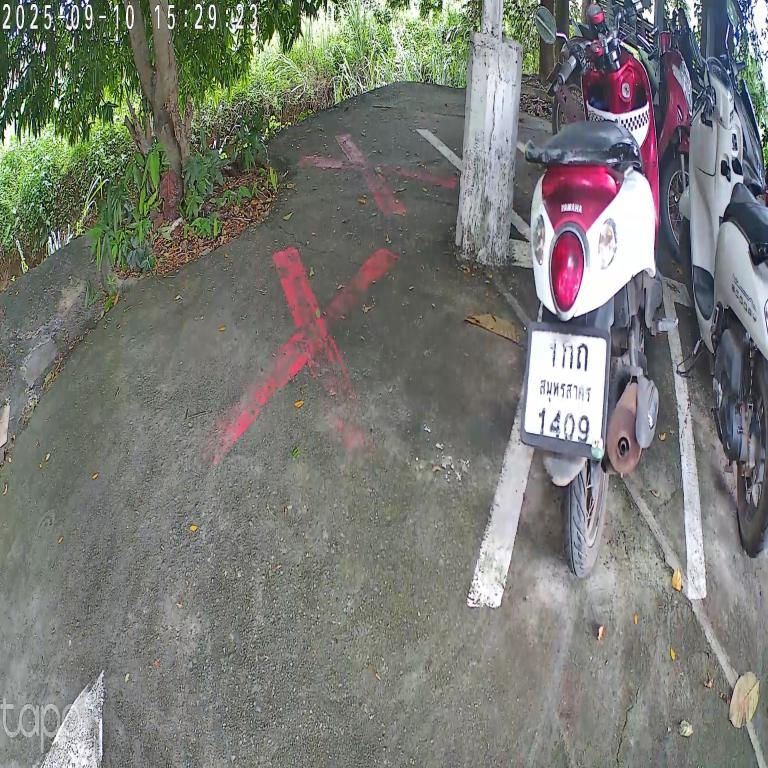license plate: (517, 302, 619, 472)
